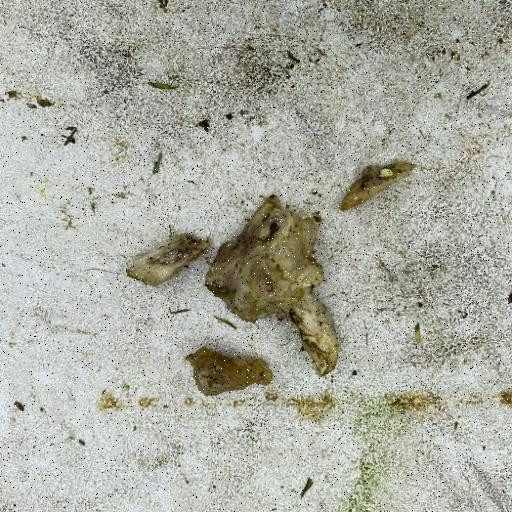Waste: (2, 1, 509, 510), (203, 192, 341, 378), (124, 230, 210, 288), (182, 344, 274, 398), (337, 158, 416, 212)
